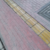others: (2, 1, 49, 47)
